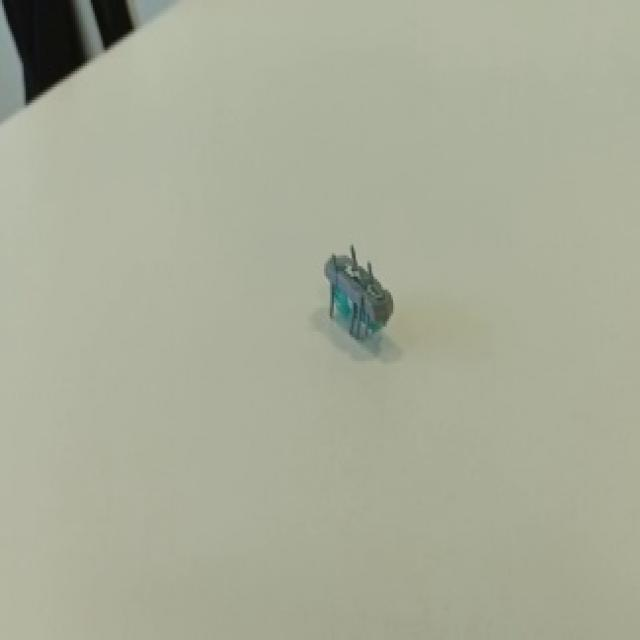5_NanoBug_GrisClaro: (294, 226, 418, 358)
